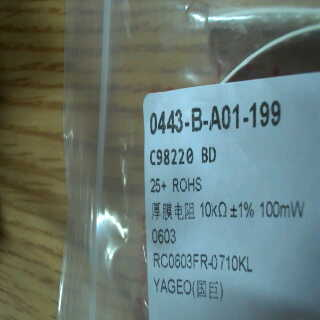10kR: (200, 199, 230, 218)
